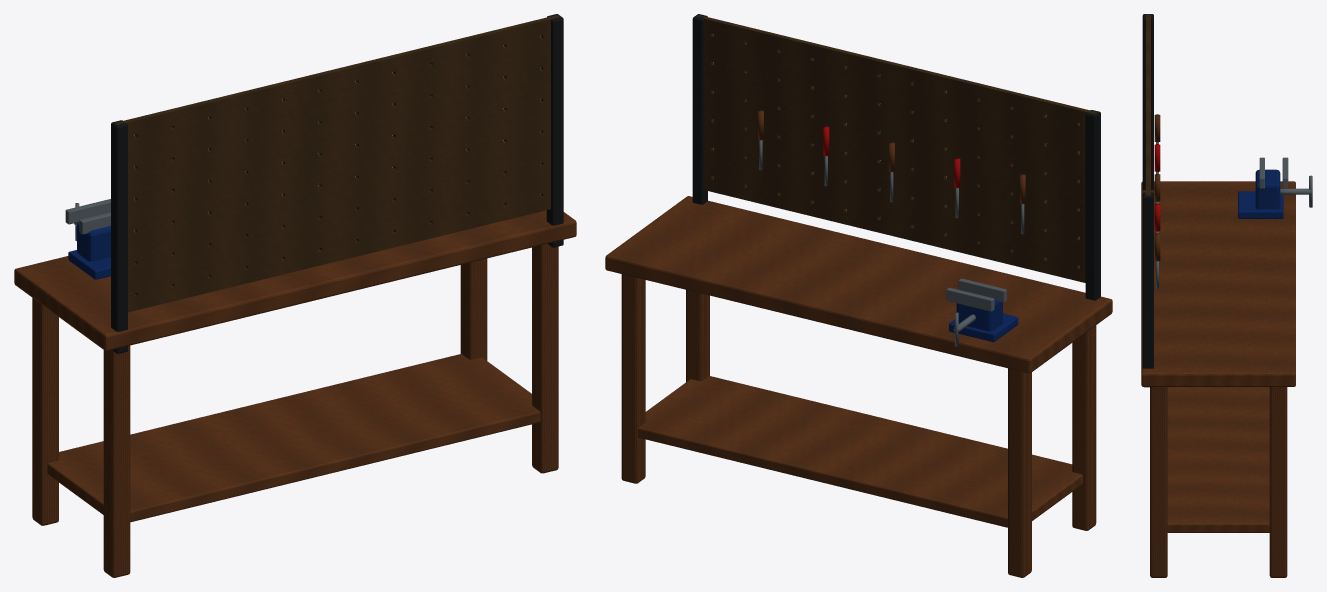
File: Workbench.gltf
3 renders of one model, left to right at view 1: azimuth 30°, elevation 25°; view 2: azimuth 150°, elevation 25°; view 3: azimuth 270°, elevation 25°, orthographic. The views are drawn at different scales.
Visible parts, largest first — view 1: Workbench__Body, Solid wood worktop, Timber leg.001, Timber leg.003, Timber leg, Timber leg.002; view 2: Workbench__Body, Solid wood worktop, Timber leg.002, Timber leg, Timber leg.001, Timber leg.003; view 3: Solid wood worktop, Workbench__Body, Timber leg.002, Timber leg.003.
Part boxes in pixels (bbox=[...]): Workbench__Body: bbox=[47, 14, 563, 522]; Solid wood worktop: bbox=[14, 203, 576, 350]; Timber leg.001: bbox=[103, 345, 130, 577]; Timber leg.003: bbox=[532, 243, 558, 473]; Timber leg: bbox=[32, 298, 58, 525]; Timber leg.002: bbox=[460, 258, 487, 360]; Workbench__Body: bbox=[638, 14, 1100, 527]; Solid wood worktop: bbox=[605, 196, 1112, 373]; Timber leg.002: bbox=[621, 274, 645, 483]; Timber leg: bbox=[1008, 368, 1031, 577]; Timber leg.001: bbox=[1072, 325, 1096, 530]; Timber leg.003: bbox=[686, 290, 709, 381]; Solid wood worktop: bbox=[1141, 181, 1295, 386]; Workbench__Body: bbox=[1142, 14, 1312, 532]; Timber leg.002: bbox=[1269, 387, 1287, 577]; Timber leg.003: bbox=[1150, 387, 1167, 577].
Size of the model in its own units: 1.82 by 1.68 by 0.6818.
1 material, 1 textured.
